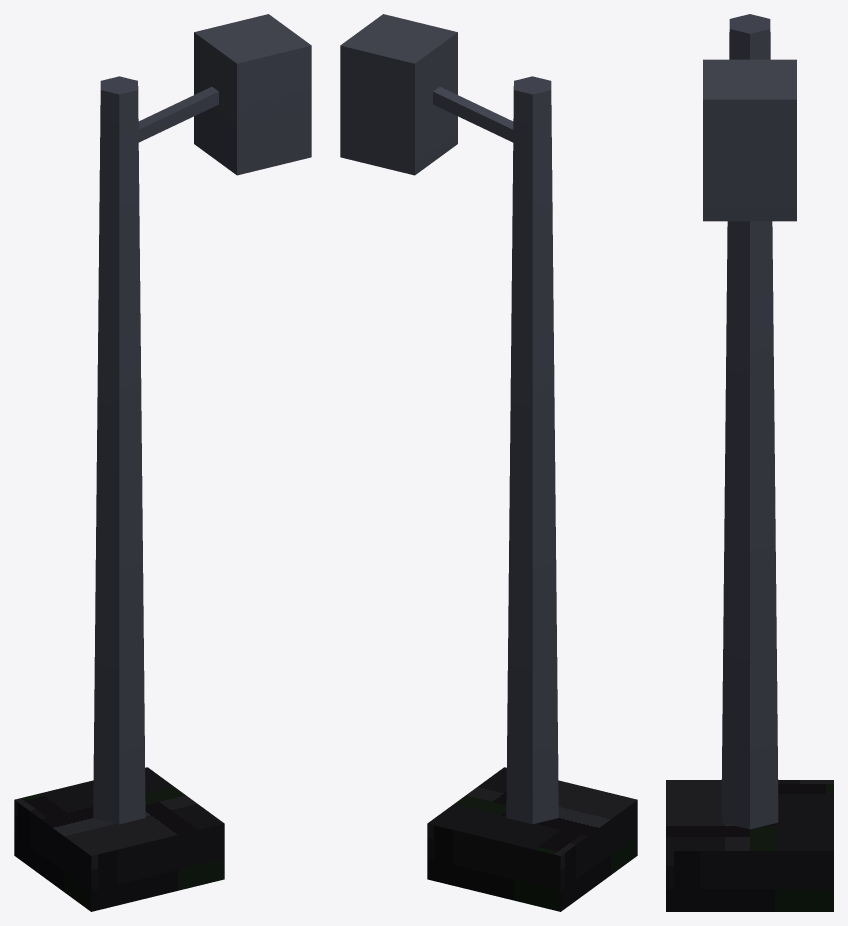
The model's file is lantern_post.glb.
The picture shows the model from 3 angles, left to right: view 1: azimuth 30°, elevation 25°; view 2: azimuth 150°, elevation 25°; view 3: azimuth 270°, elevation 25°; orthographic projection. The views are drawn at different scales.
Visible parts, largest first — view 1: lantern_post; view 2: lantern_post; view 3: lantern_post.
Part boxes in pixels (left/top/right/bottom): lantern_post: left=14, top=14, right=311, bottom=911; lantern_post: left=340, top=14, right=637, bottom=911; lantern_post: left=666, top=14, right=833, bottom=911.
Size of the model in its own units: 0.89 by 2.85 by 0.5.
Materials: 3 (1 with a texture image).
